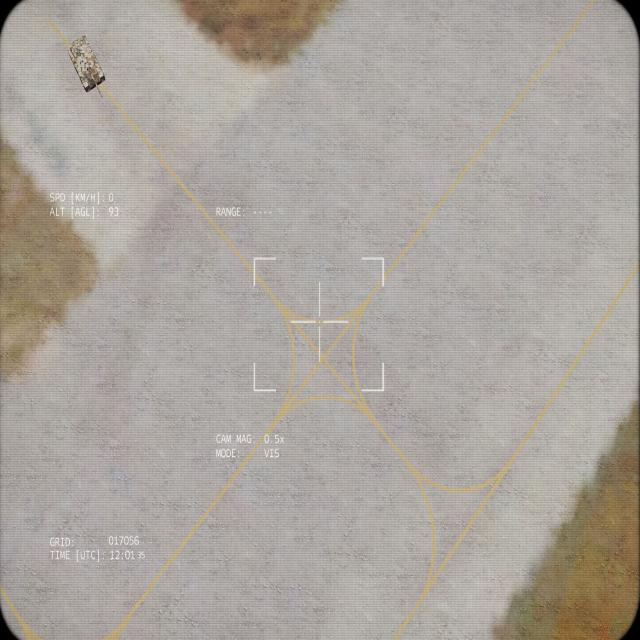tank: (66, 34, 106, 99)
